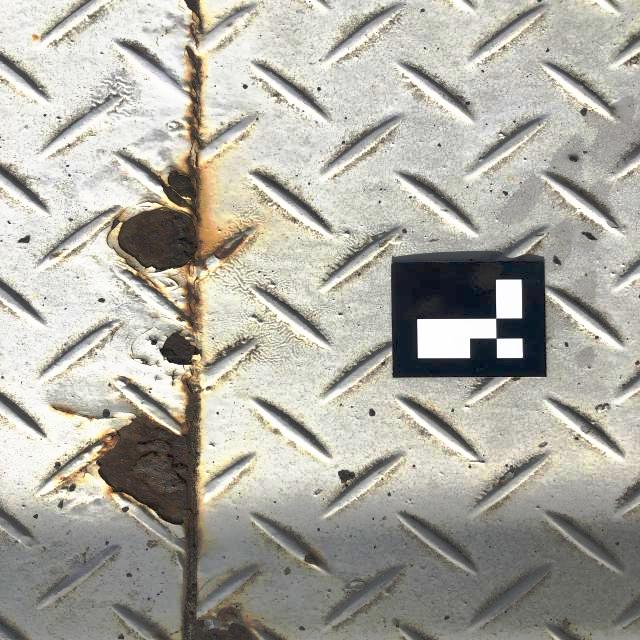Corrosion: (94, 397, 198, 528), (108, 151, 206, 290), (136, 329, 204, 386), (182, 44, 203, 147), (193, 608, 254, 640), (180, 283, 201, 332), (214, 233, 246, 261), (52, 406, 105, 421), (180, 378, 194, 398), (303, 554, 323, 566)
